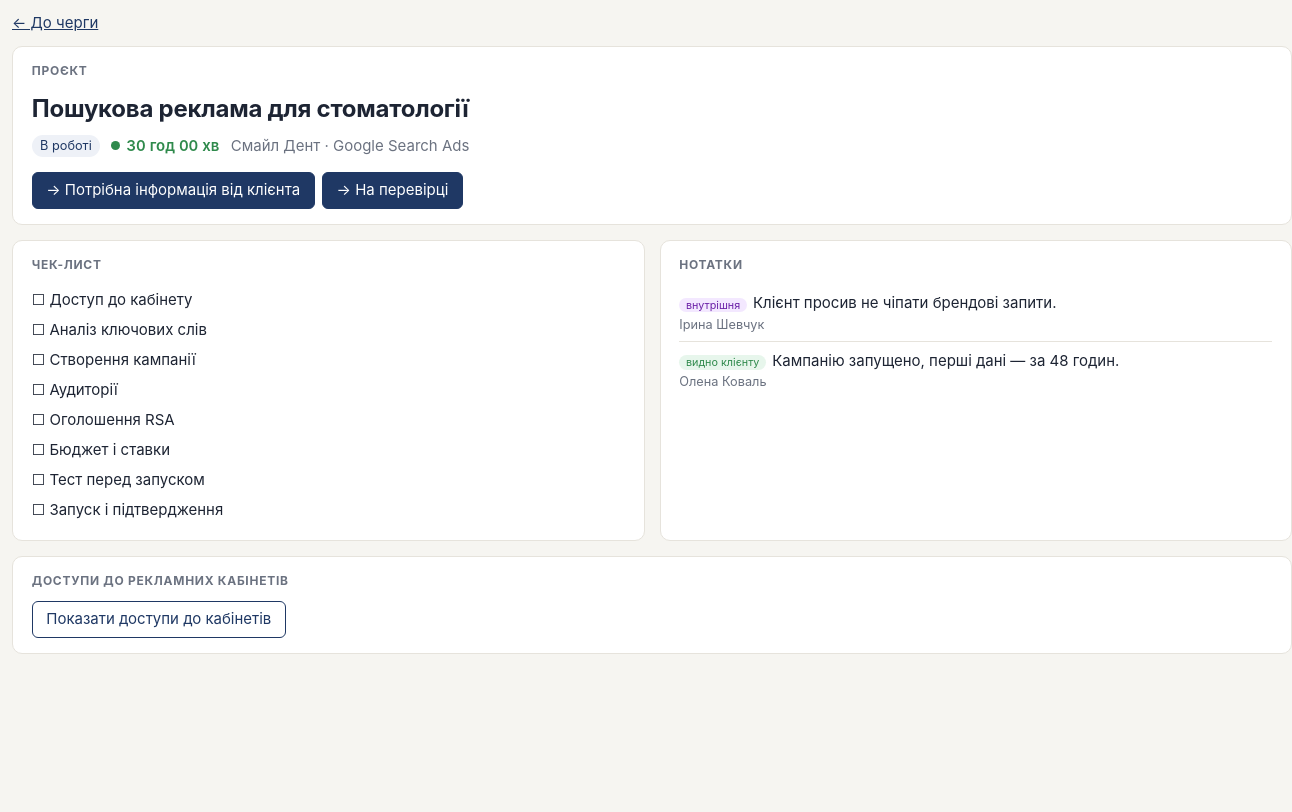
Test case: Б-5ф: панель пропонує рівно allowedTransitions (лише UX) › якщо сервер відхилив перехід (422) — показує причину й оновлює картку
The image size is (1292, 812).
Click the button "→ На перевірці". click: [392, 190]
box: [322,172,463,208]
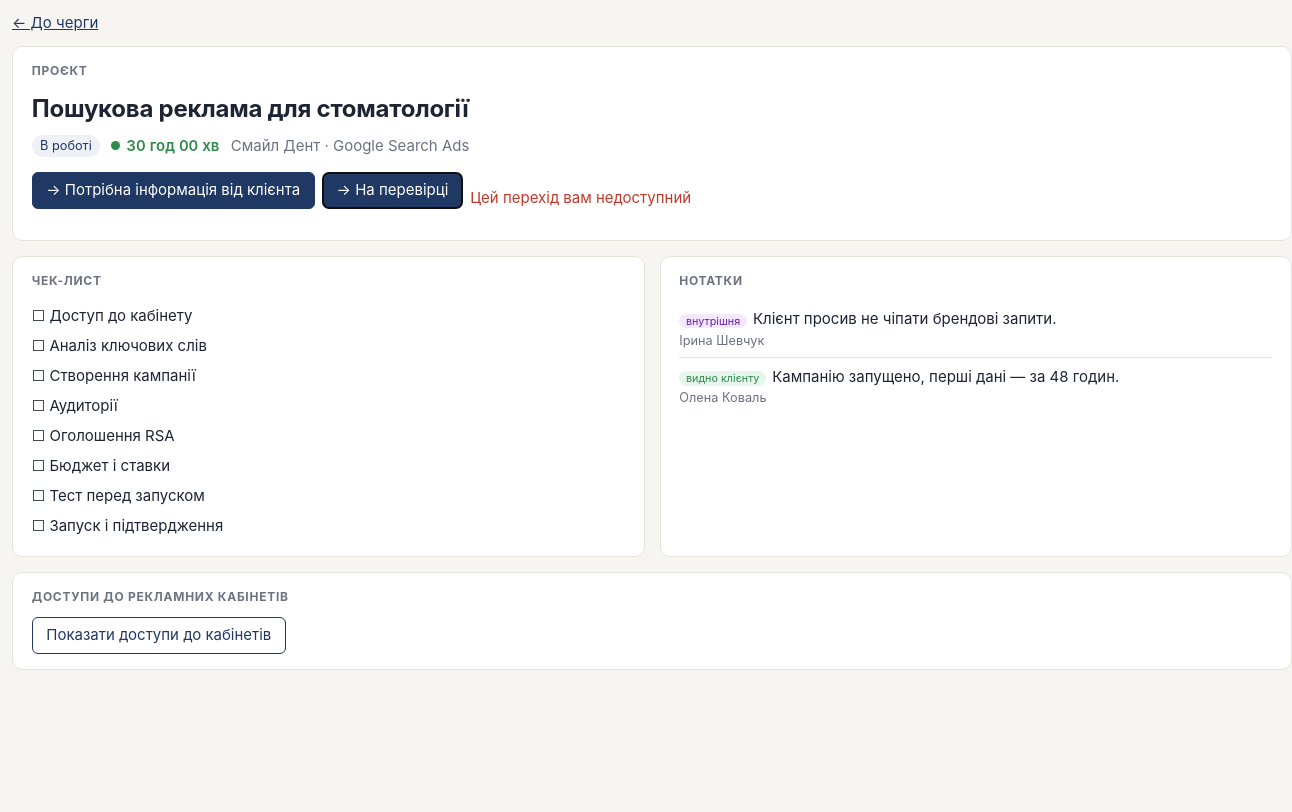
expect the text "Цей перехід вам недоступний" is shown: met, box [470,187,691,210]
